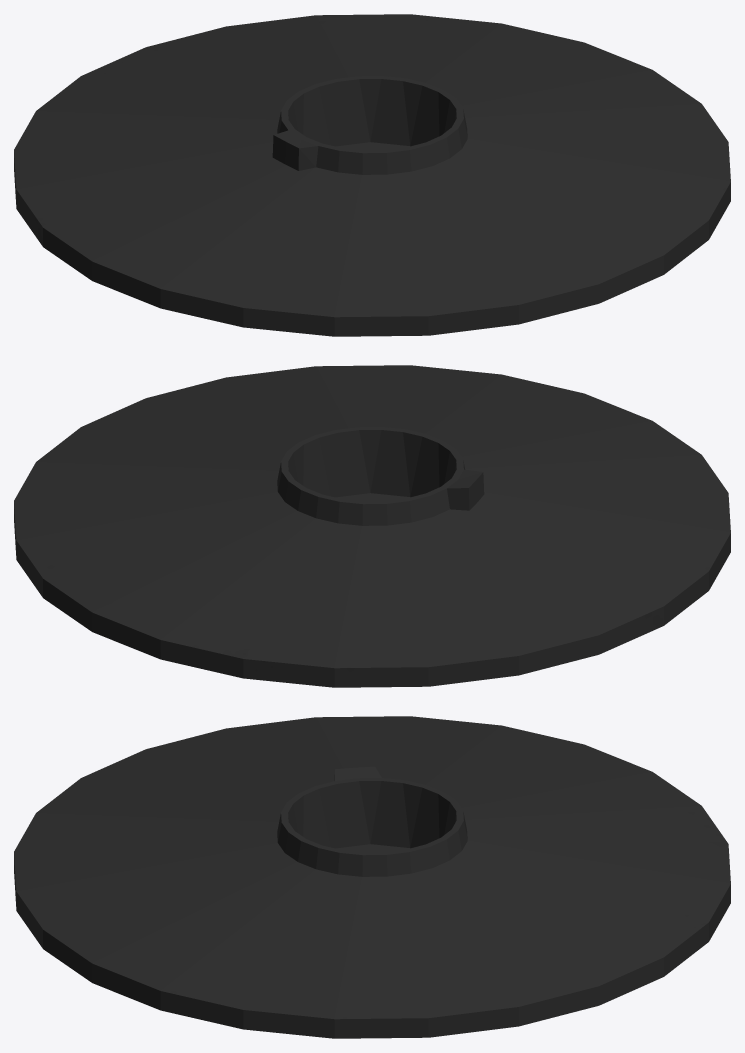
Rendered from mesh23.dat.obj.
3 renders of one model, top to bottom at view 1: azimuth 30°, elevation 25°; view 2: azimuth 150°, elevation 25°; view 3: azimuth 270°, elevation 25°, orthographic.
Parts seen in each view (by area): view 1: Metal_Disk_01_low; view 2: Metal_Disk_01_low; view 3: Metal_Disk_01_low.
Part boxes in pixels (x1,y1,x2,y2): Metal_Disk_01_low: [14, 14, 730, 336]; Metal_Disk_01_low: [14, 365, 730, 687]; Metal_Disk_01_low: [14, 716, 730, 1038].
Bounding box in the file's own units: 2.08 × 0.2343 × 2.08.
Materials: 1 (1 with a texture image).
